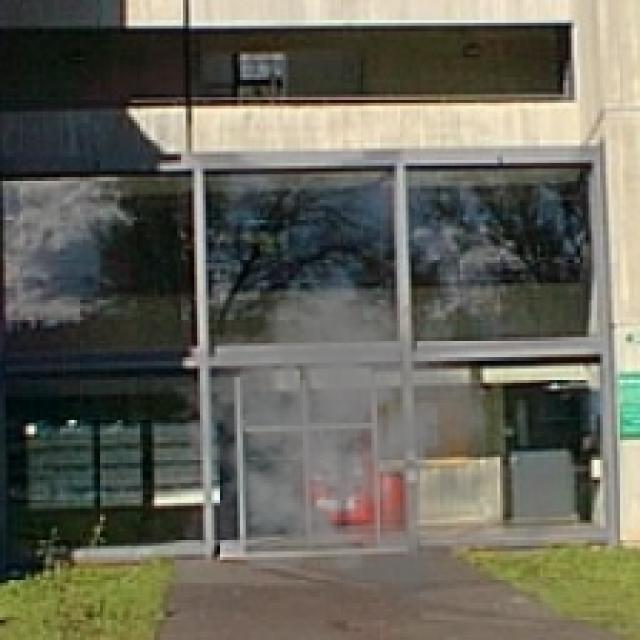smoke: (174, 266, 600, 611)
